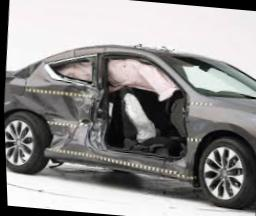Door: (23, 55, 188, 179)
